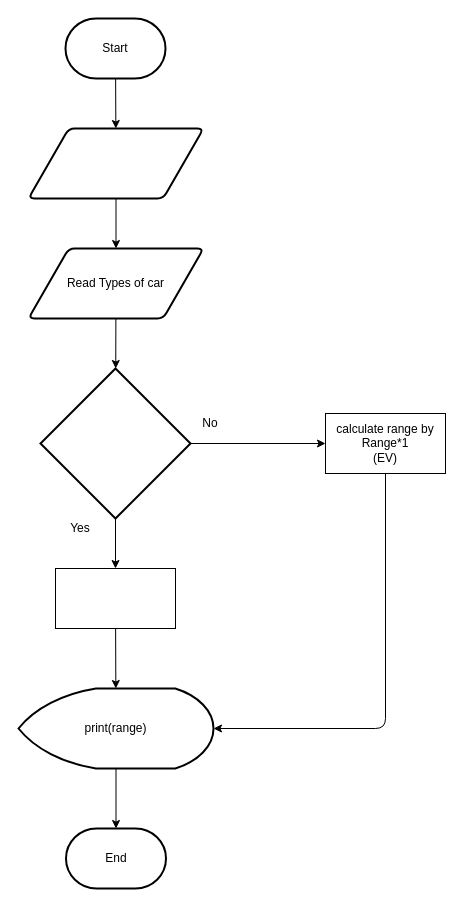
Some shapes in this 463 by 906 pixel diagram are drawn without their labels. The box of each missing label's shape, as (x1, y1, x2, y2) in pixels:
calculate range by Range*4 (GAS): (54, 568, 176, 628)
is type of car is gas car?: (39, 367, 191, 519)
Read Travel Range: (27, 127, 204, 199)
